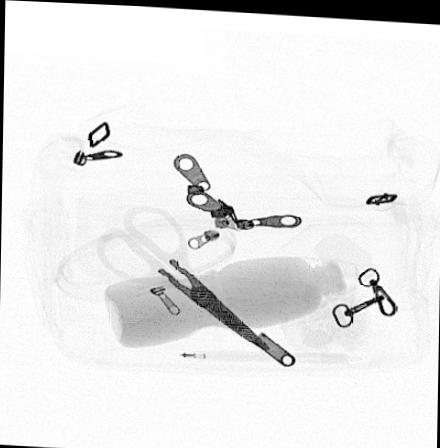Scissors: (92, 202, 272, 350)
